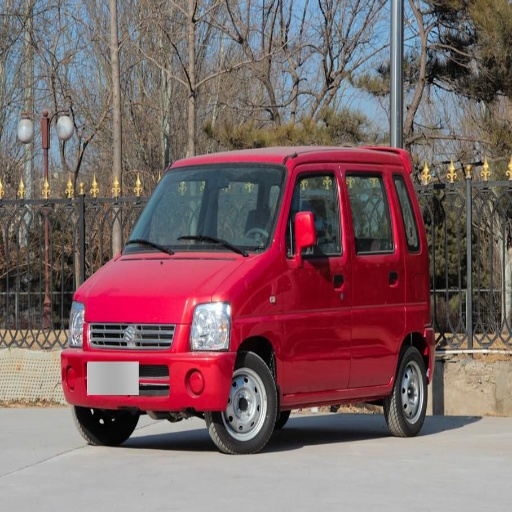front_bumper: (62, 304, 237, 410)
front_glass: (128, 164, 284, 251)
front_left_door: (282, 168, 381, 394)
trunk: (373, 297, 429, 371)
